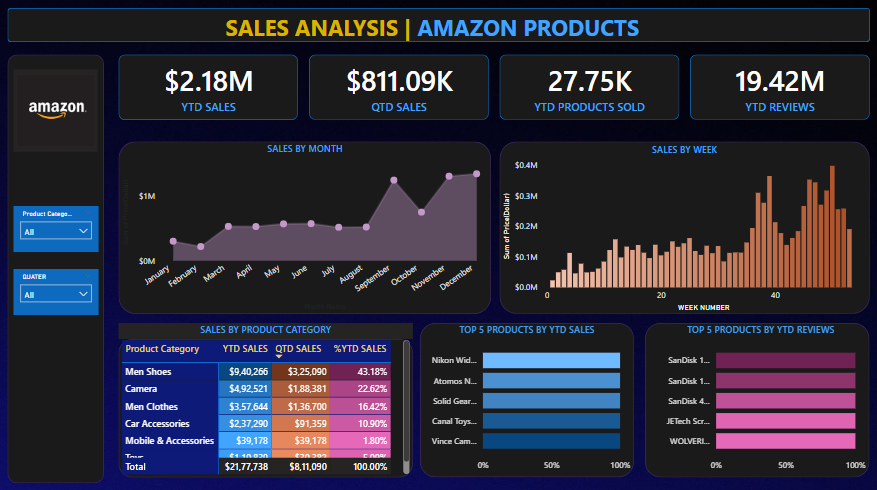

The page's visual inventory and layout, read from the dashboard file:
{"tool":"powerbi","page":{"name":"Page 1","canvas":[1280,720],"ordinal":0},"visuals":[{"type":"shape","box":[15.1,13.7,1250.1,49.4],"z":0},{"type":"textbox","box":[326.6,13.7,624.4,57.6],"z":1000},{"type":"shape","box":[15.1,81,140,621.6],"z":2000},{"type":"shape","box":[175.6,81,260,95],"z":3000},{"type":"card","fields":{"Values":["Amazon_Data.YTD SALES"]},"box":[175.6,81,260.7,94.7],"z":4000},{"type":"shape","box":[451.9,81,260.7,94.7],"z":5000},{"type":"shape","box":[728.2,81,260.7,94.7],"z":6000},{"type":"shape","box":[1004.5,81,260.7,94.7],"z":7000},{"type":"card","fields":{"Values":["Amazon_Data.QTD SALES"]},"box":[451.5,81,260.7,94.7],"z":8000},{"type":"card","fields":{"Values":["Amazon_Data.YTD PRODUCTS SOLD"]},"box":[728.6,81,260.7,94.7],"z":9000},{"type":"card","fields":{"Values":["Amazon_Data.YTD REVIEWS"]},"box":[1004.5,81,260.7,94.7],"z":10000},{"type":"shape","box":[175.6,207.2,540,250],"z":11000},{"type":"areaChart","title":"SALES BY MONTH","fields":{"Category":["Date Table.Month Name"],"Y":["Sum(Amazon_Data.Price(Dollar))"]},"box":[175.6,207.2,540.7,249.7],"z":12000},{"type":"shape","box":[728.6,207.2,536.5,249.7],"z":13000},{"type":"columnChart","title":"SALES BY WEEK","fields":{"Category":["Date Table.WEEK NUMBER"],"Y":["Sum(Amazon_Data.Price(Dollar))"]},"box":[728.6,208.6,536.5,248.4],"z":14000},{"type":"shape","title":"SALES BY PRODUCT CATEGORY","box":[175.6,469.3,426.8,223.7],"z":15000},{"type":"pivotTable","fields":{"Rows":["Amazon_Data.Product Category"],"Values":["Amazon_Data.YTD SALES1","Amazon_Data.QTD SALES","Amazon_Data.YTD SALES"]},"box":[175.6,488.5,426.8,204.5],"z":16000},{"type":"shape","box":[612,469.3,310.1,223.7],"z":16001},{"type":"shape","box":[940,469.3,325.2,223.7],"z":16002},{"type":"hundredPercentStackedBarChart","title":"TOP 5 PRODUCTS BY YTD SALES","fields":{"Y":["Amazon_Data.YTD SALES"],"Category":["Amazon_Data.Product Description"]},"box":[612,469.3,310.1,223.7],"z":16003},{"type":"hundredPercentStackedBarChart","title":"TOP 5 PRODUCTS BY YTD REVIEWS","fields":{"Category":["Amazon_Data.Product Description"],"Y":["Amazon_Data.YTD REVIEWS"]},"box":[950.9,469.3,314.2,223.7],"z":16004},{"type":"slicer","fields":{"Values":["Amazon_Data.Product Category"]},"box":[24.1,300.4,123.1,66.4],"z":16005},{"type":"slicer","fields":{"Values":["Date Table.QUATER"]},"box":[24.1,390.9,123.1,66.4],"z":16006},{"type":"image","box":[24.1,102.5,121.9,119.4],"z":16007}]}

Visuals, with their boxes in screenshot pixels (x1, y1, x2, y2), scaled from the page's 1280x720 canvas onto the 877x490 screenshot:
shape: locate(10, 9, 867, 43)
textbox: locate(224, 9, 652, 49)
shape: locate(10, 55, 106, 478)
shape: locate(120, 55, 298, 120)
card - Amazon_Data.YTD SALES: locate(120, 55, 299, 120)
shape: locate(310, 55, 488, 120)
shape: locate(499, 55, 678, 120)
shape: locate(688, 55, 867, 120)
card - Amazon_Data.QTD SALES: locate(309, 55, 488, 120)
card - Amazon_Data.YTD PRODUCTS SOLD: locate(499, 55, 678, 120)
card - Amazon_Data.YTD REVIEWS: locate(688, 55, 867, 120)
shape: locate(120, 141, 490, 311)
"SALES BY MONTH" areaChart: locate(120, 141, 491, 311)
shape: locate(499, 141, 867, 311)
"SALES BY WEEK" columnChart: locate(499, 142, 867, 311)
"SALES BY PRODUCT CATEGORY" shape: locate(120, 319, 413, 472)
pivotTable - Amazon_Data.Product Category x Amazon_Data.YTD SALES1: locate(120, 332, 413, 472)
shape: locate(419, 319, 632, 472)
shape: locate(644, 319, 867, 472)
"TOP 5 PRODUCTS BY YTD SALES" hundredPercentStackedBarChart: locate(419, 319, 632, 472)
"TOP 5 PRODUCTS BY YTD REVIEWS" hundredPercentStackedBarChart: locate(652, 319, 867, 472)
slicer - Amazon_Data.Product Category: locate(17, 204, 101, 250)
slicer - Date Table.QUATER: locate(17, 266, 101, 311)
image: locate(17, 70, 100, 151)
